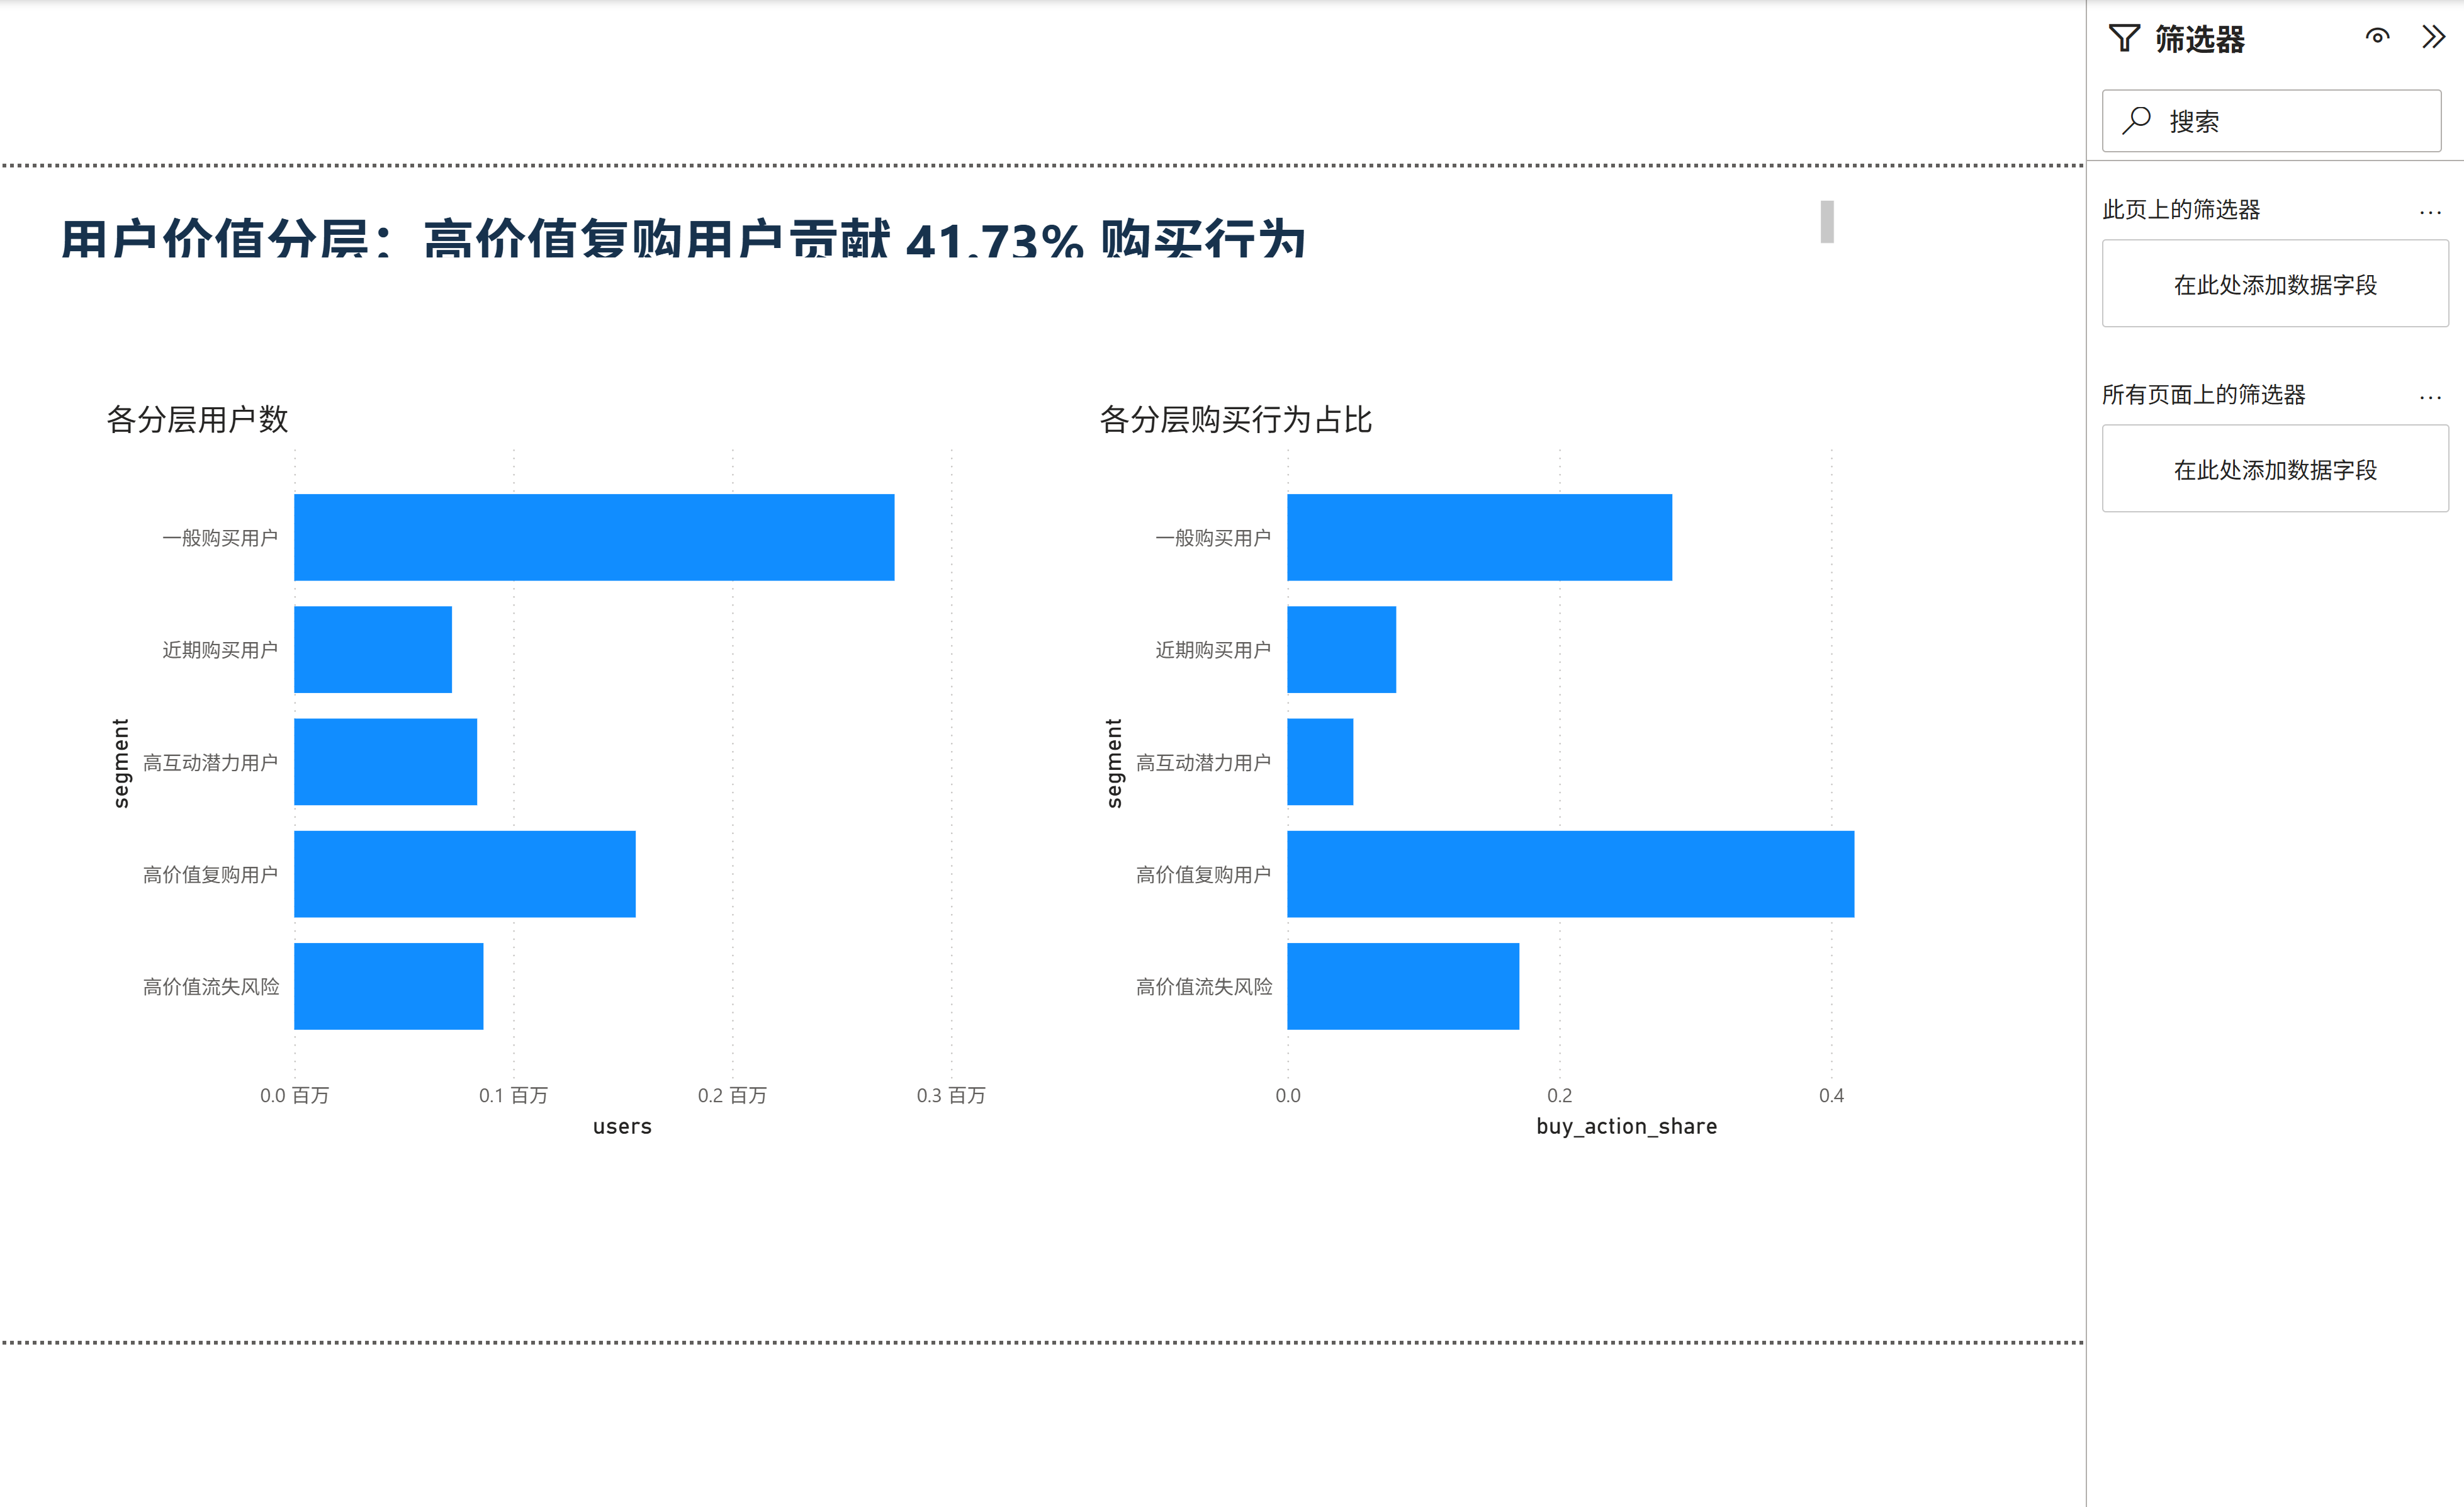

This screenshot's page, from the dashboard's own definition file:
{"tool":"powerbi","page":{"name":"用户分层","canvas":[1280,720],"ordinal":2},"visuals":[{"type":"textbox","box":[30,15,1100,45],"z":1},{"type":"barChart","title":"各分层用户数","fields":{"Category":["RfmSegments.segment"],"Y":["Sum(RfmSegments.users)"]},"box":[60,140,550,460],"z":3},{"type":"barChart","title":"各分层购买行为占比","fields":{"Category":["RfmSegments.segment"],"Y":["Sum(RfmSegments.buy_action_share)"]},"box":[670,140,550,460],"z":3}]}

Visuals, with their boxes on the page's 1280x720 design canvas (x1, y1, x2, y2). These are canvas units, not pixel positions in the 2464x1507 screenshot, which may show the page scaled, cropped or inside an application window:
textbox: BBox(30, 15, 1130, 60)
"各分层用户数" barChart: BBox(60, 140, 610, 600)
"各分层购买行为占比" barChart: BBox(670, 140, 1220, 600)
